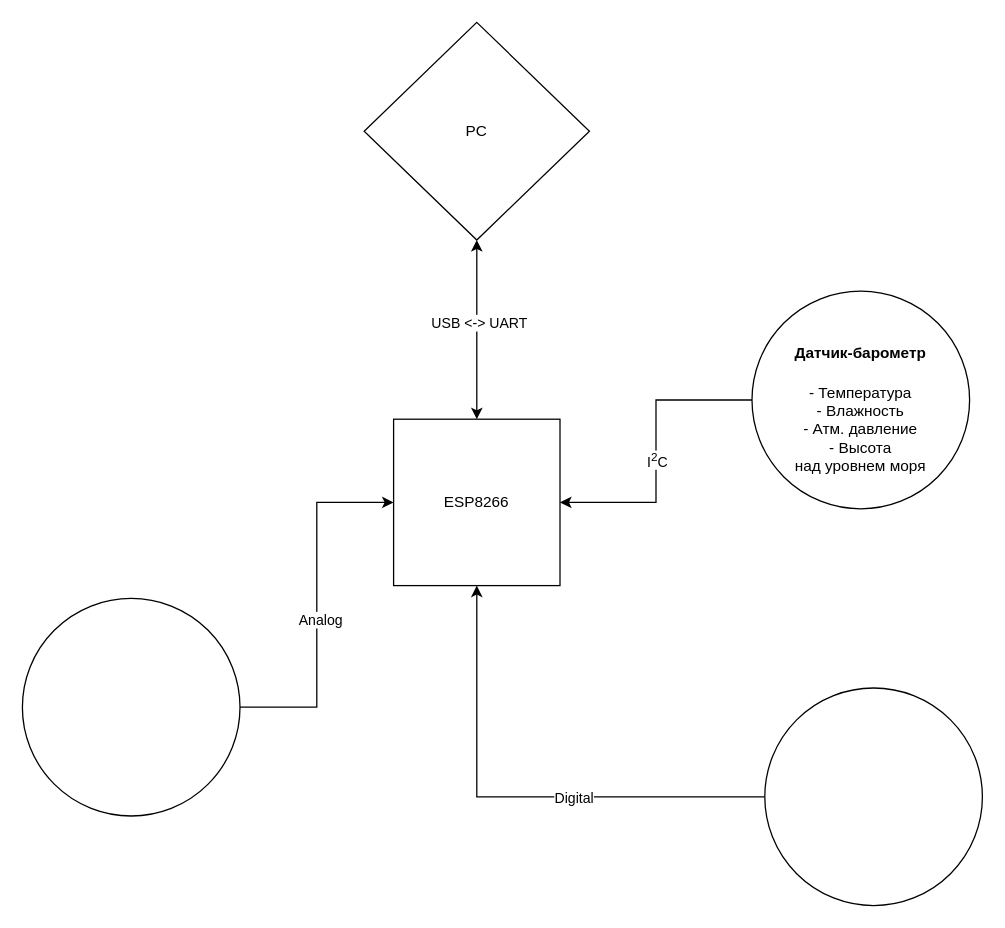
Image size: 1005x928. Some labels were removed from this diagram. Each missing label, with the box of its shape:
Датчик света - Уровень освещённости: (21, 597, 240, 816)
Датчик-дождя - Наличие дождя: (764, 687, 982, 906)
